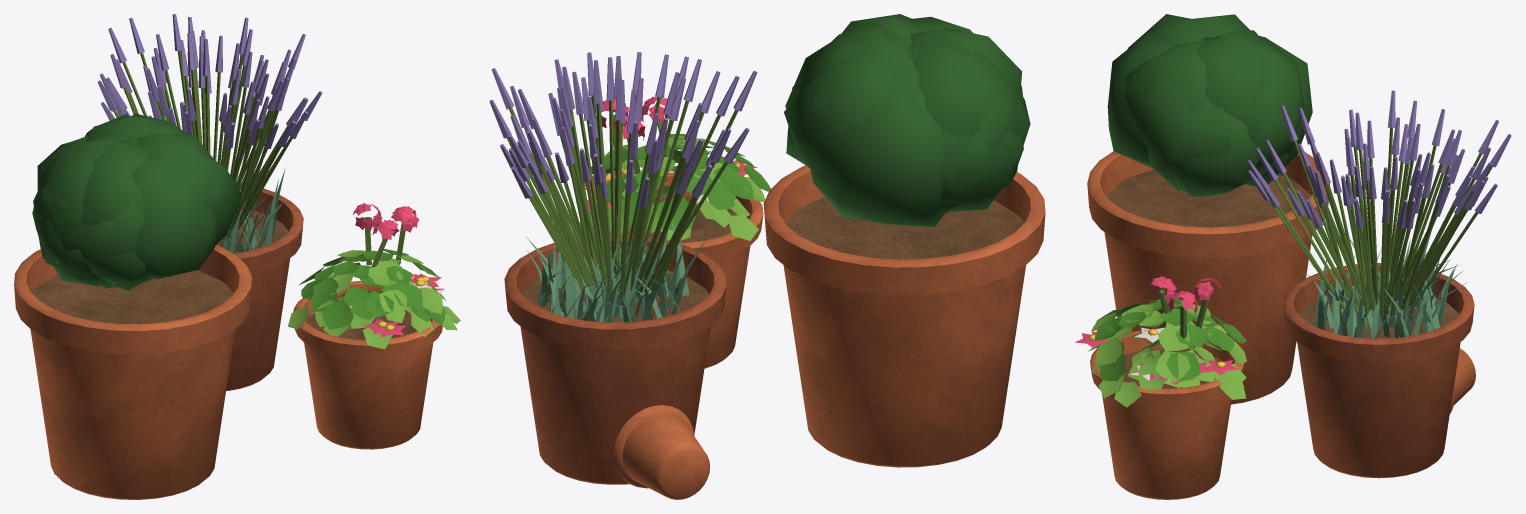
Rendered from pot_cluster.glb.
3 renders of one model, left to right at view 1: azimuth 30°, elevation 25°; view 2: azimuth 150°, elevation 25°; view 3: azimuth 270°, elevation 25°, orthographic. The views are drawn at different scales.
Parts seen in each view (by area): view 1: pot_cluster; view 2: pot_cluster; view 3: pot_cluster.
Boxes of the visible parts, x1,y1,x2,y2 form: pot_cluster: (14, 14, 460, 499); pot_cluster: (489, 14, 1045, 499); pot_cluster: (1075, 14, 1511, 499).
Size of the model in its own units: 5.05 by 4.15 by 4.75.
12 materials, 3 textured.
